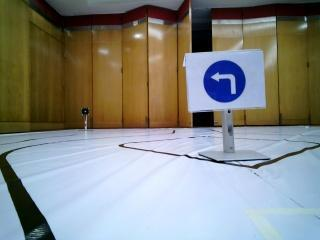left: (187, 56, 269, 108)
